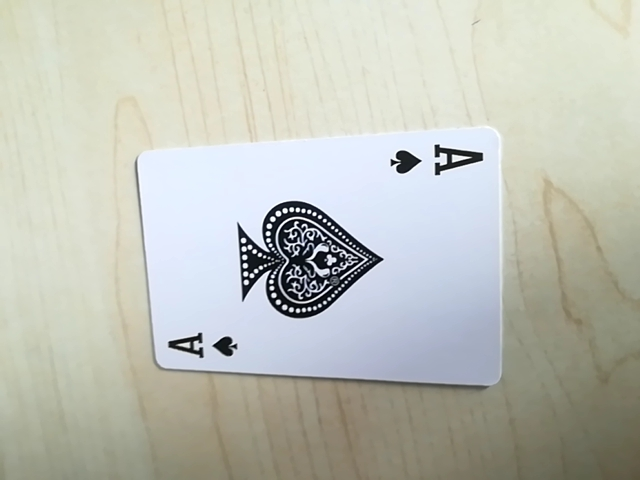ht a: (385, 137, 485, 184), (161, 326, 244, 367)
